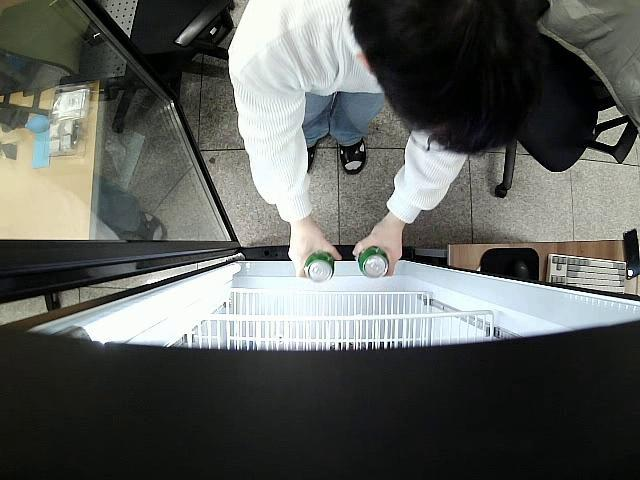12_chilsungCider: (357, 246, 391, 280), (302, 249, 334, 283)
